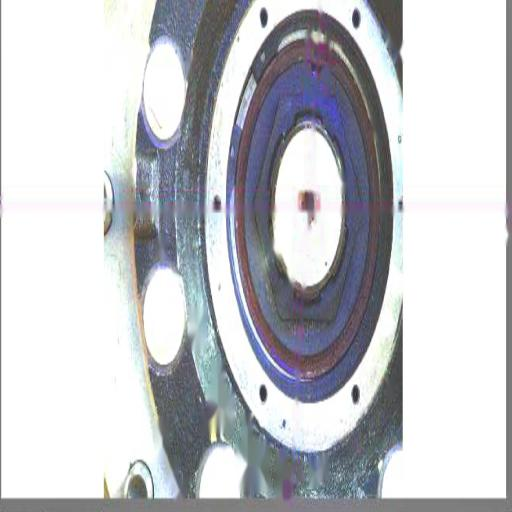center: (298, 187, 317, 218)
notch: (306, 54, 324, 85)
